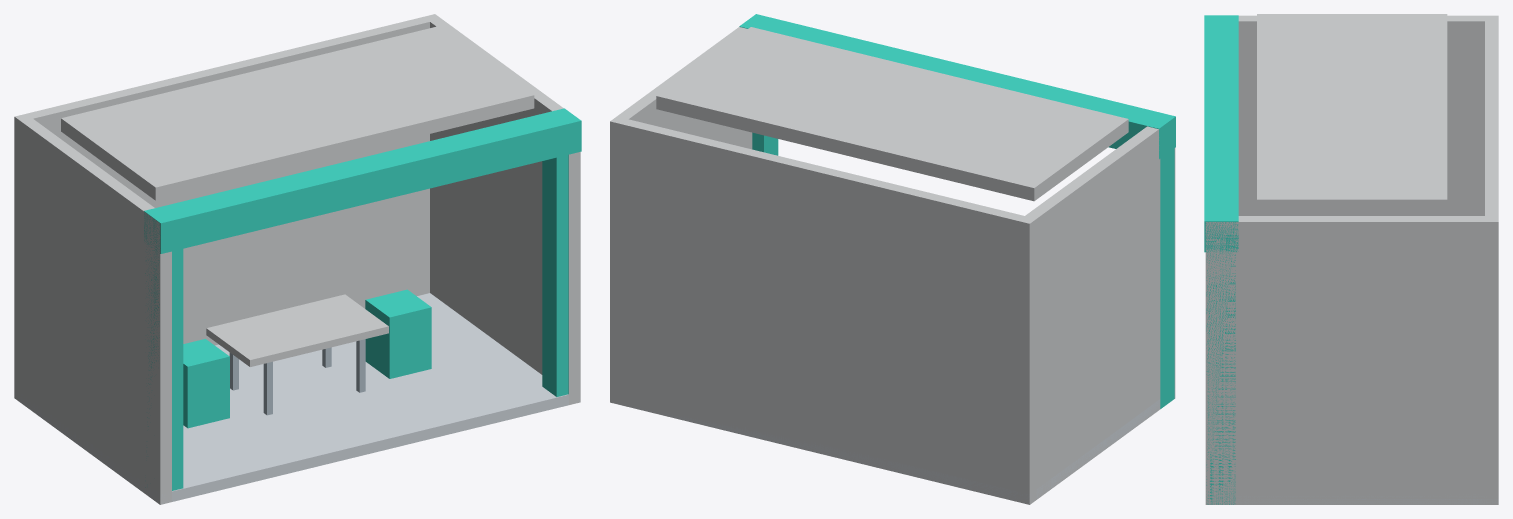
3 views of the same model, side by side, from view 1: azimuth 30°, elevation 25°; view 2: azimuth 150°, elevation 25°; view 3: azimuth 270°, elevation 25° (orthographic).
Parts seen in each view (by area): view 1: Exhibition Booth Concept; view 2: Exhibition Booth Concept; view 3: Exhibition Booth Concept.
Boxes of the visible parts, box(x1,y1,x2,y2) form: Exhibition Booth Concept: box(14, 14, 581, 504); Exhibition Booth Concept: box(610, 14, 1175, 504); Exhibition Booth Concept: box(1204, 14, 1498, 504).
Bounding box in the file's own units: 5 × 3.34 × 3.01.
